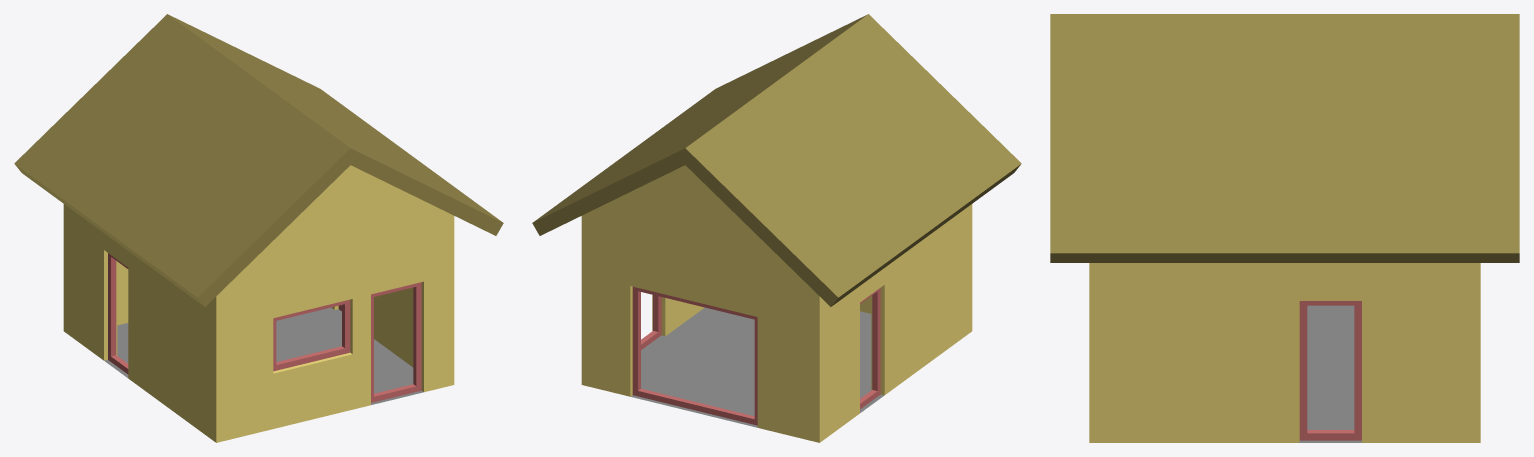
Rendered from result.glb.
3 renders of one model, left to right at view 1: azimuth 30°, elevation 25°; view 2: azimuth 150°, elevation 25°; view 3: azimuth 270°, elevation 25°, orthographic. The views are drawn at different scales.
Parts seen in each view (by area): view 1: bc444176-aba0-4a32-b396-6576066f580a__undefined (×2), 6db0980f-d128-4f64-be56-73713abec989__undefined, a4a359f6-e37d-472f-813e-86ecbd5da9a1__Plane_6, aa7b1364-e045-470f-a40b-e705e1dafd2d__Box, b00aab11-9e76-48db-9395-c4eb6ba0b7f7__Box_3, c500e67b-f161-4f66-bccd-07f5bdc5f8f7__Box_12; view 2: bc444176-aba0-4a32-b396-6576066f580a__undefined (×2), 6db0980f-d128-4f64-be56-73713abec989__undefined, a4a359f6-e37d-472f-813e-86ecbd5da9a1__Plane_6, ef1fa48e-ea88-4a92-8125-9dfd87f1f4ec__Box_9, c500e67b-f161-4f66-bccd-07f5bdc5f8f7__Box_12, 44654a06-0ffc-40a6-ae76-f5314f524f9a__Box_15; view 3: bc444176-aba0-4a32-b396-6576066f580a__undefined, 6db0980f-d128-4f64-be56-73713abec989__undefined, a4a359f6-e37d-472f-813e-86ecbd5da9a1__Plane_6, 44654a06-0ffc-40a6-ae76-f5314f524f9a__Box_15.
Boxes of the visible parts, x1,y1,x2,y2 form: bc444176-aba0-4a32-b396-6576066f580a__undefined (×2): (14, 14, 503, 306); 6db0980f-d128-4f64-be56-73713abec989__undefined: (63, 165, 454, 442); a4a359f6-e37d-472f-813e-86ecbd5da9a1__Plane_6: (104, 307, 423, 404); aa7b1364-e045-470f-a40b-e705e1dafd2d__Box: (371, 282, 421, 402); b00aab11-9e76-48db-9395-c4eb6ba0b7f7__Box_3: (273, 299, 350, 371); c500e67b-f161-4f66-bccd-07f5bdc5f8f7__Box_12: (108, 253, 128, 374); bc444176-aba0-4a32-b396-6576066f580a__undefined (×2): (532, 14, 1021, 306); 6db0980f-d128-4f64-be56-73713abec989__undefined: (581, 165, 972, 442); a4a359f6-e37d-472f-813e-86ecbd5da9a1__Plane_6: (630, 307, 884, 427); ef1fa48e-ea88-4a92-8125-9dfd87f1f4ec__Box_9: (632, 286, 757, 425); c500e67b-f161-4f66-bccd-07f5bdc5f8f7__Box_12: (860, 288, 880, 409); 44654a06-0ffc-40a6-ae76-f5314f524f9a__Box_15: (641, 295, 661, 349); bc444176-aba0-4a32-b396-6576066f580a__undefined: (1050, 14, 1519, 262); 6db0980f-d128-4f64-be56-73713abec989__undefined: (1089, 263, 1480, 442); a4a359f6-e37d-472f-813e-86ecbd5da9a1__Plane_6: (1299, 305, 1361, 442); 44654a06-0ffc-40a6-ae76-f5314f524f9a__Box_15: (1299, 301, 1361, 440).
Size of the model in its own units: 579 by 500 by 600.
